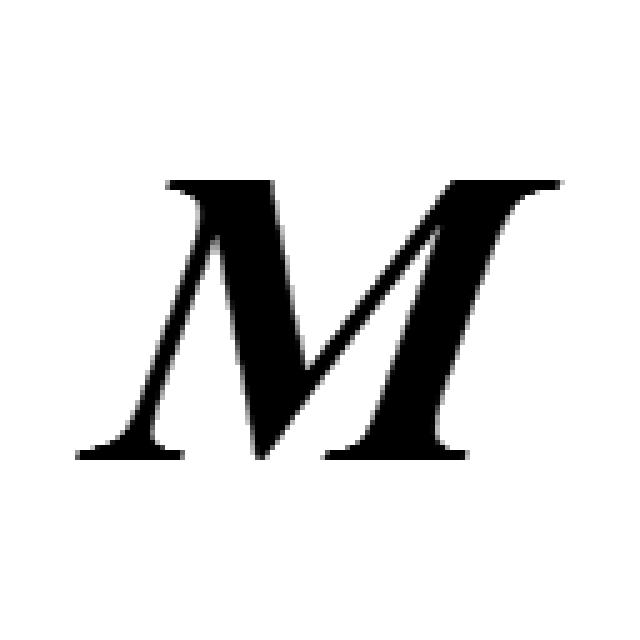M: (83, 172, 513, 478)
